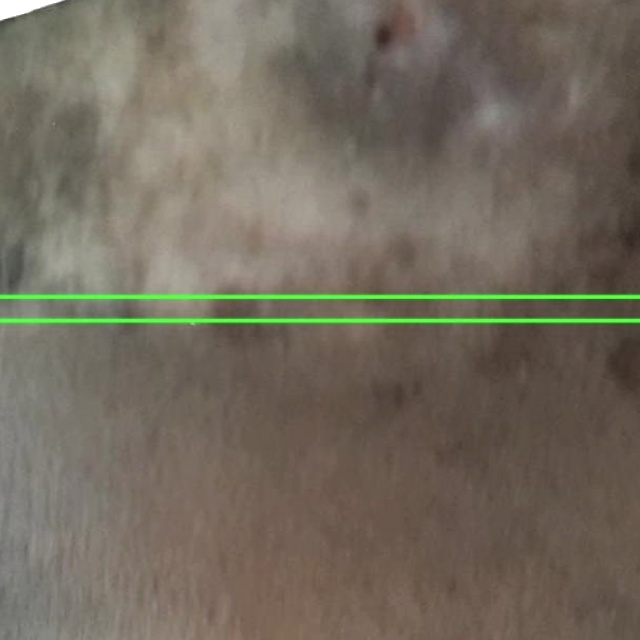Contact Dermatitis: (0, 296, 639, 639), (0, 0, 639, 320)
